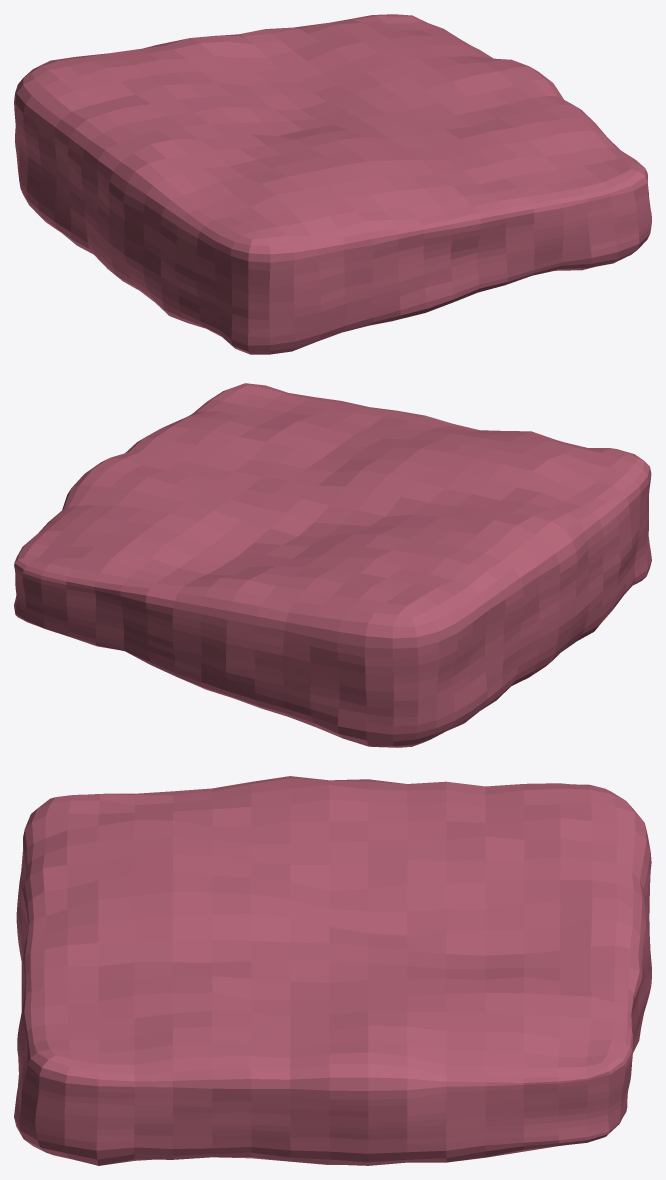
The picture shows the model from 3 angles, top to bottom: view 1: azimuth 30°, elevation 25°; view 2: azimuth 150°, elevation 25°; view 3: azimuth 270°, elevation 25°; orthographic projection. The views are drawn at different scales.
Size of the model in its own units: 0.8845 by 0.2755 by 0.8679.
